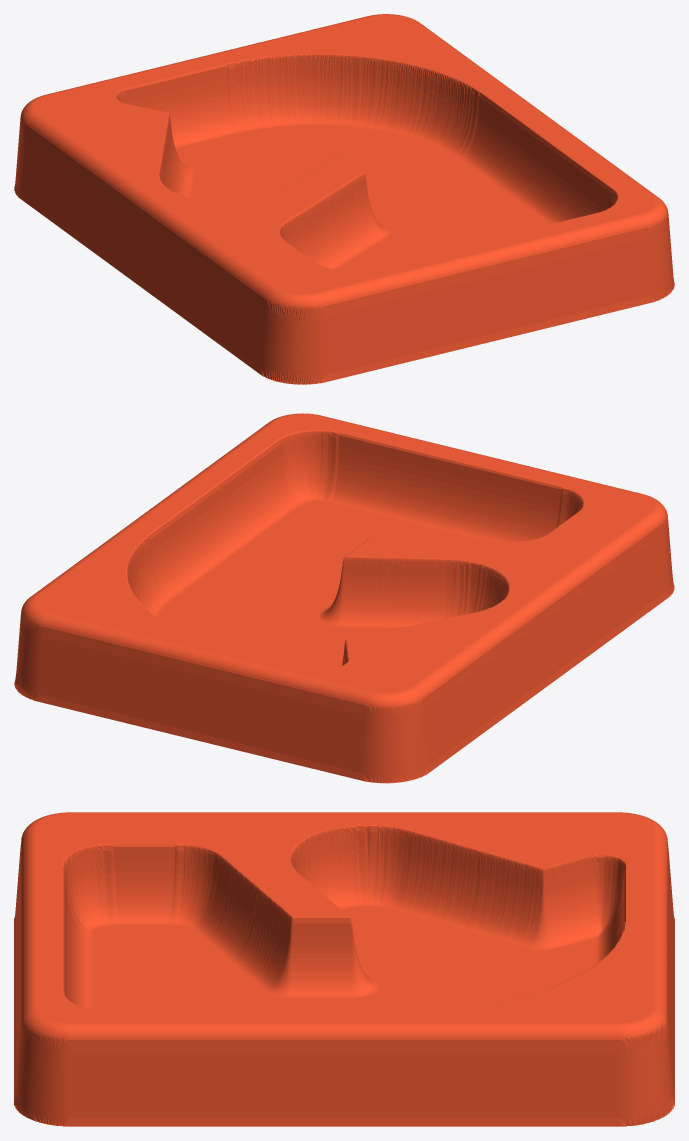
File: mold.glb
The picture shows the model from 3 angles, top to bottom: view 1: azimuth 30°, elevation 25°; view 2: azimuth 150°, elevation 25°; view 3: azimuth 270°, elevation 25°; orthographic projection. The views are drawn at different scales.
Visible parts, largest first — view 1: geometry_0; view 2: geometry_0; view 3: geometry_0.
Part boxes in pixels (x1,y1,x2,y2): geometry_0: (14, 14, 674, 384); geometry_0: (14, 413, 674, 783); geometry_0: (14, 812, 674, 1126).
Size of the model in its own units: 0.0858 by 0.0165 by 0.105.
